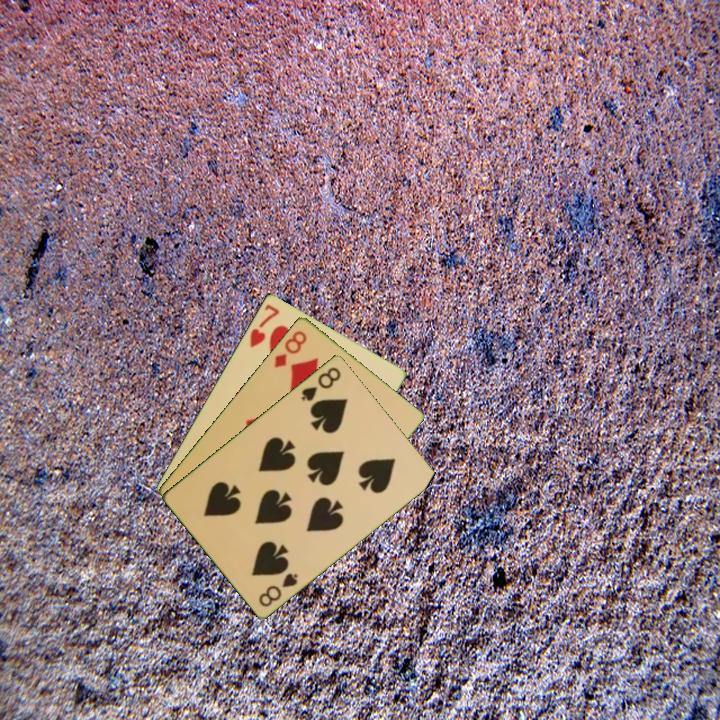7h: (246, 300, 282, 350)
8d: (270, 326, 310, 370)
8s: (297, 363, 344, 404), (255, 569, 301, 609)
